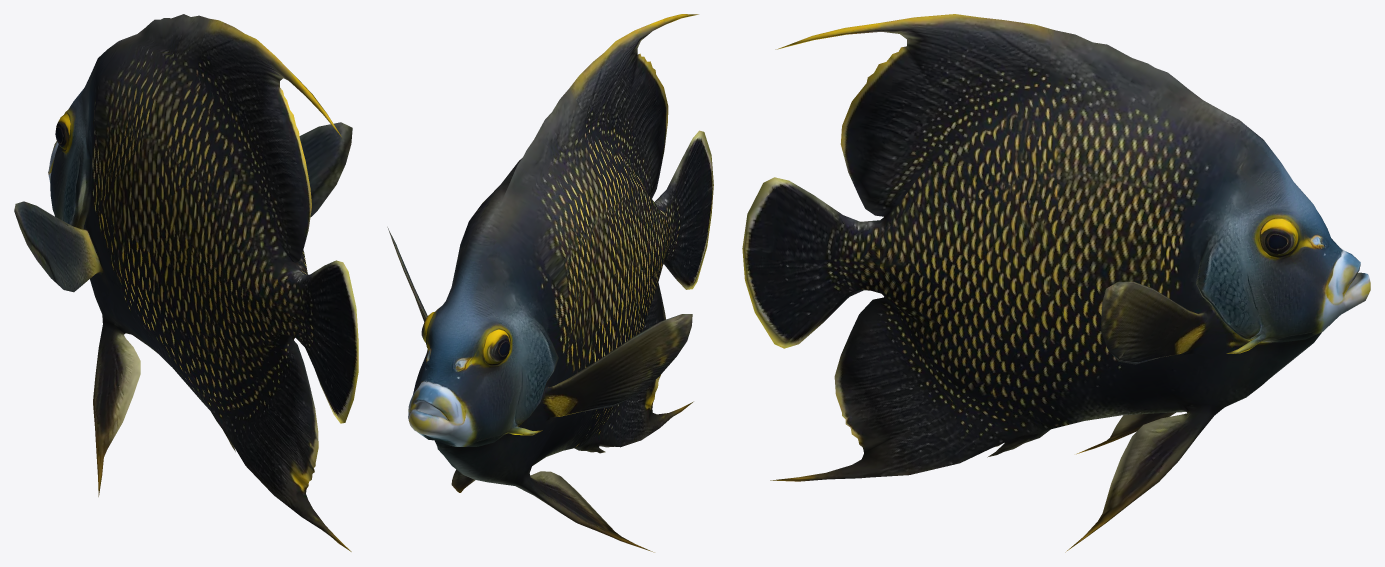
Rendered from franse_keizer.glb.
3 views of the same model, side by side, from view 1: azimuth 30°, elevation 25°; view 2: azimuth 150°, elevation 25°; view 3: azimuth 270°, elevation 25° (orthographic). The views are drawn at different scales.
Visible parts, largest first — view 1: tripo_node_dd919727-ab7f-4aa8-abb9-3b0ecdbdae93; view 2: tripo_node_dd919727-ab7f-4aa8-abb9-3b0ecdbdae93; view 3: tripo_node_dd919727-ab7f-4aa8-abb9-3b0ecdbdae93.
Part boxes in pixels (<box>): tripo_node_dd919727-ab7f-4aa8-abb9-3b0ecdbdae93: <box>14,14,358,551</box>; tripo_node_dd919727-ab7f-4aa8-abb9-3b0ecdbdae93: <box>387,14,713,552</box>; tripo_node_dd919727-ab7f-4aa8-abb9-3b0ecdbdae93: <box>742,14,1370,552</box>.
Size of the model in its own units: 0.2184 by 0.3 by 0.3476.
1 material, 1 textured.
